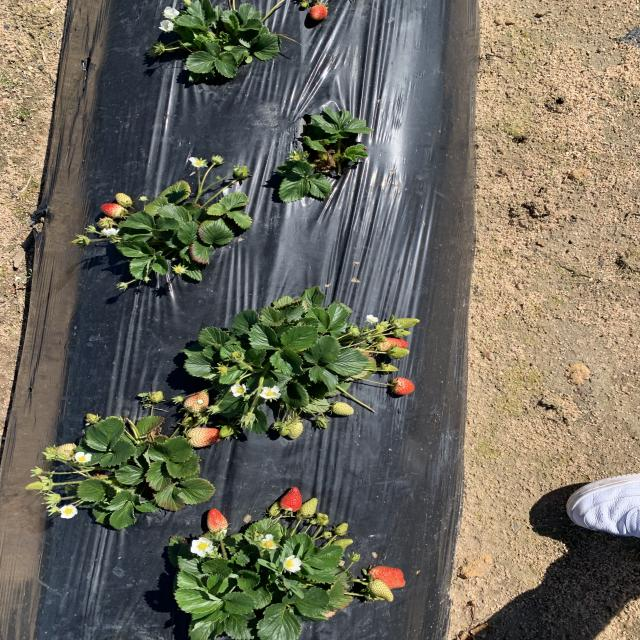unripe: (370, 566, 406, 591), (374, 338, 409, 354), (208, 509, 230, 533), (282, 486, 302, 510), (390, 377, 416, 395), (100, 203, 128, 219), (308, 6, 329, 20)
